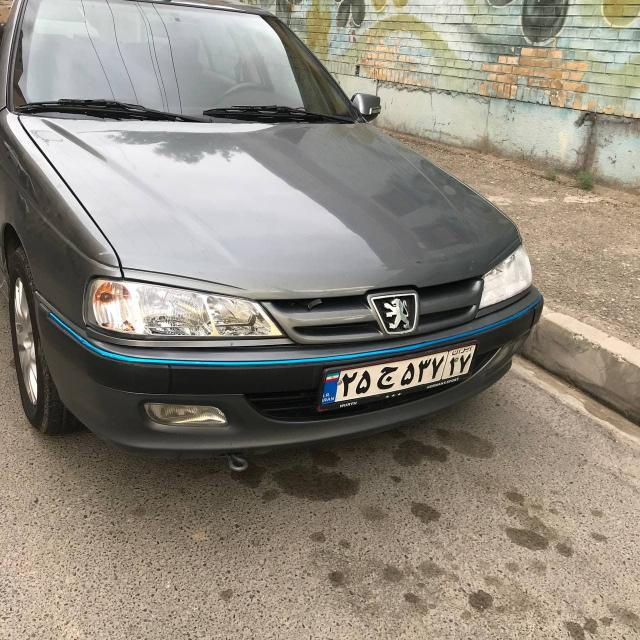Plates: (315, 341, 482, 405)
